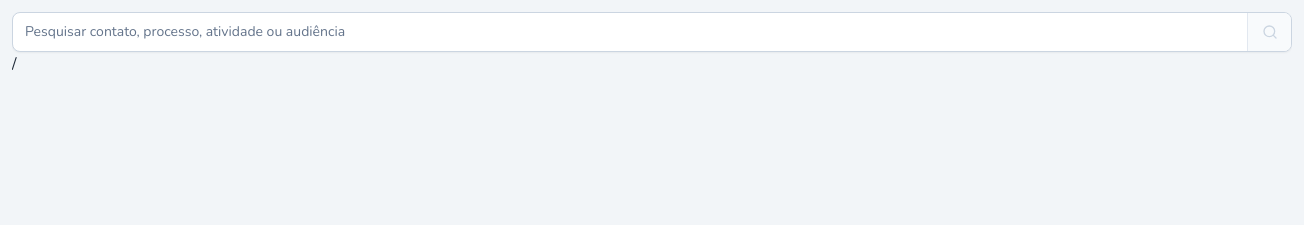
Test: GlobalSearch › só consulta depois de dois caracteres e abre a pesquisa completa com Enter
In the search field named "Busca global": (630, 32) [13,13,1247,51], type "a"
Wait 300 ms
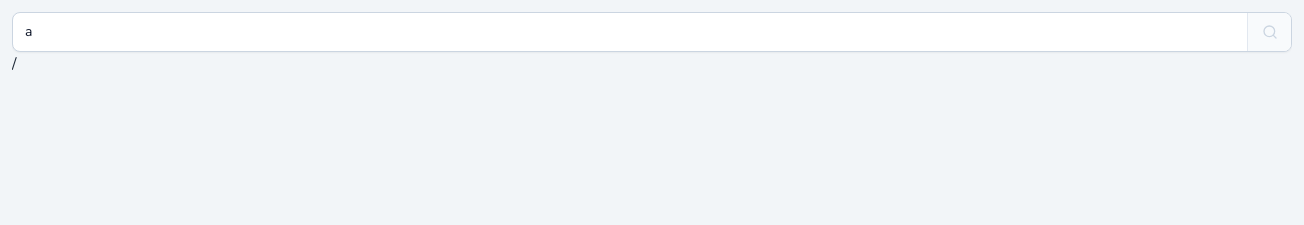
Replace the text in the search field named "Busca global" with "ação": (630, 32) [13,13,1247,51]
Wait 300 ms
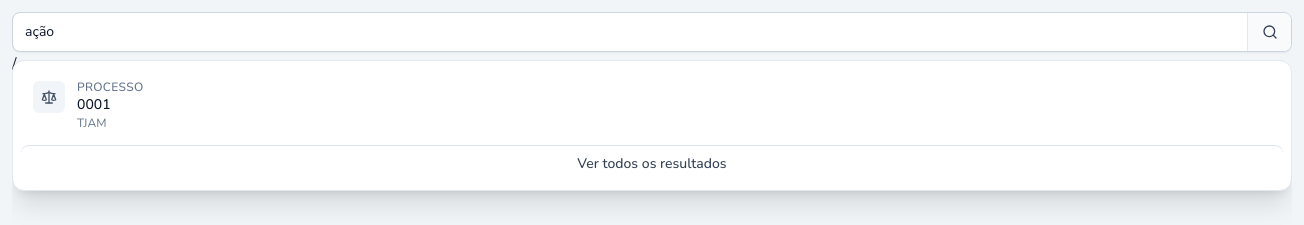
Press Enter in the search field named "Busca global", box [13,13,1247,51]
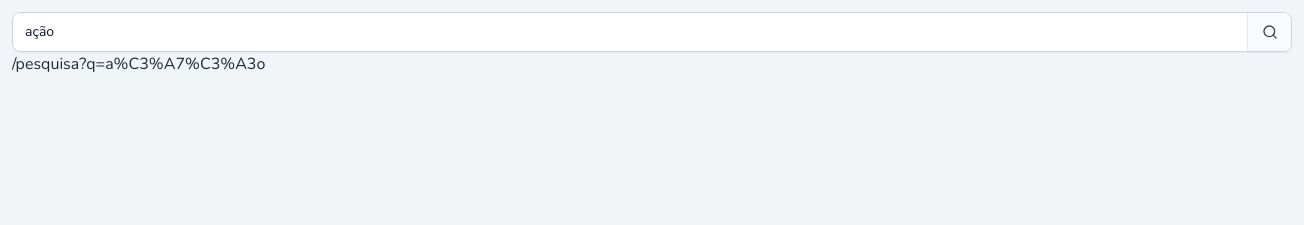
Expected: the text with test id "location" reads "/pesquisa?q=a%C3%A7%C3%A3o", [12,53,265,75]
